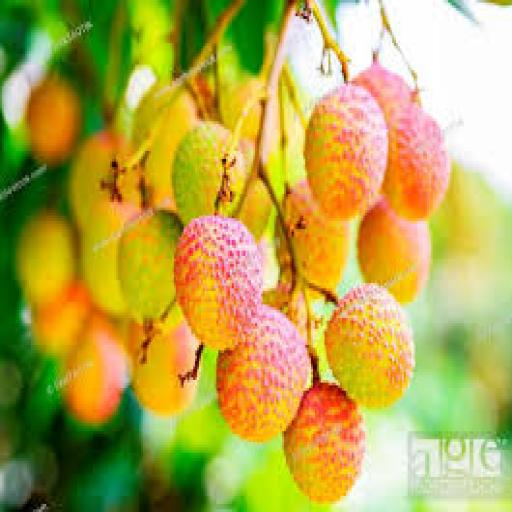lychee: (217, 305, 311, 441), (174, 216, 262, 350), (304, 84, 388, 220), (325, 283, 413, 409), (285, 383, 365, 503), (383, 103, 450, 220), (358, 197, 430, 304), (172, 122, 245, 223), (118, 211, 181, 323), (28, 76, 81, 164)
